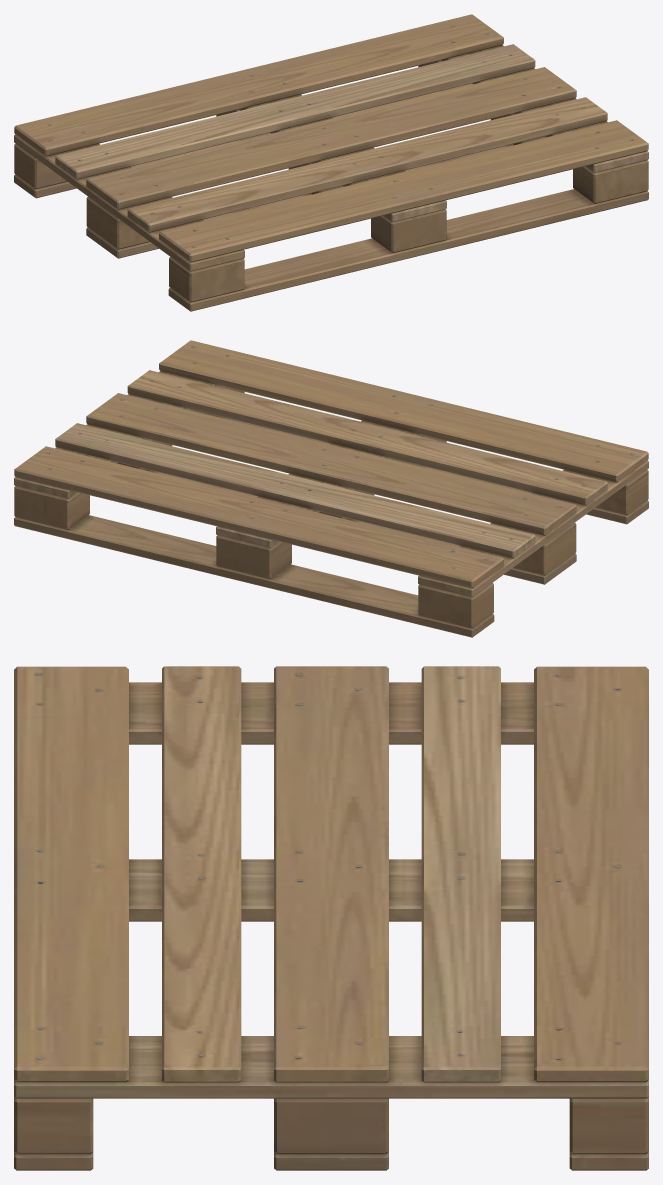
The model's file is wooden-pallet.glb.
3 renders of one model, top to bottom at view 1: azimuth 30°, elevation 25°; view 2: azimuth 150°, elevation 25°; view 3: azimuth 270°, elevation 25°, orthographic. The views are drawn at different scales.
Visible parts, largest first — view 1: wooden-pallet_body; view 2: wooden-pallet_body; view 3: wooden-pallet_body.
Boxes of the visible parts, x1,y1,x2,y2 form: wooden-pallet_body: (14, 14, 648, 311); wooden-pallet_body: (14, 340, 648, 637); wooden-pallet_body: (14, 666, 648, 1170).
Size of the model in its own units: 1.2 by 0.1444 by 0.8.
1 material, 1 textured.
